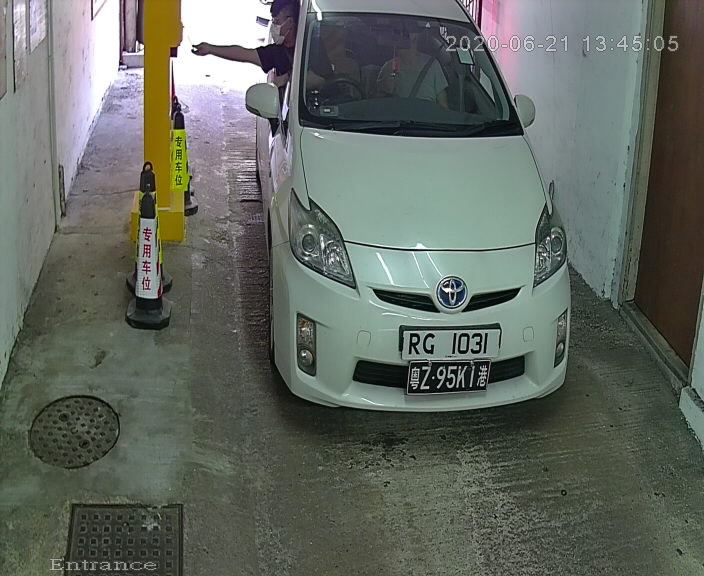privatecar: (236, 2, 588, 444)
